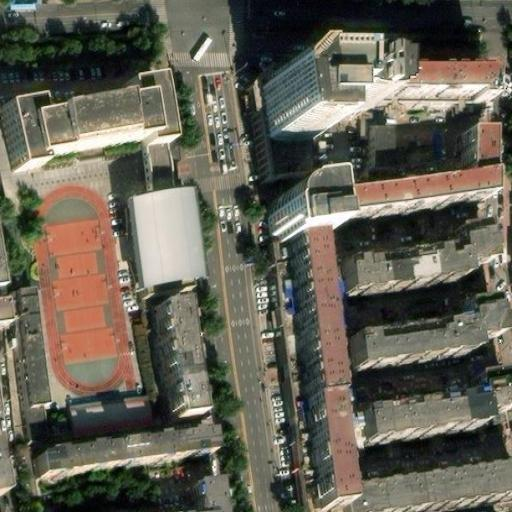building: (0, 66, 157, 158), (37, 431, 206, 481), (322, 184, 493, 229), (127, 208, 202, 307), (343, 237, 467, 288), (349, 473, 511, 512), (156, 308, 202, 435), (355, 323, 474, 372), (347, 400, 471, 445), (260, 87, 327, 160), (14, 303, 47, 413), (255, 198, 307, 259), (67, 394, 153, 430), (373, 86, 486, 110), (322, 82, 368, 131), (139, 136, 176, 193), (467, 299, 502, 347), (464, 372, 497, 420), (461, 222, 492, 272), (466, 140, 490, 188), (190, 479, 224, 512), (0, 428, 12, 491), (507, 195, 512, 237), (509, 236, 512, 263)
